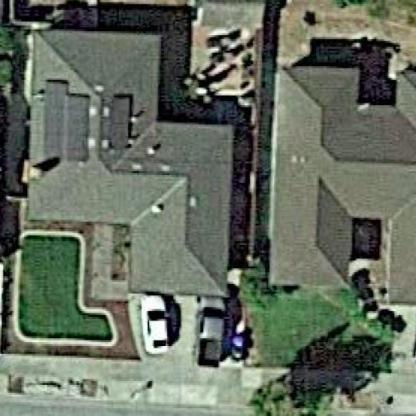car: (188, 292, 233, 371), (127, 288, 176, 359)
solar_panel: (40, 72, 92, 168), (100, 91, 138, 155)
